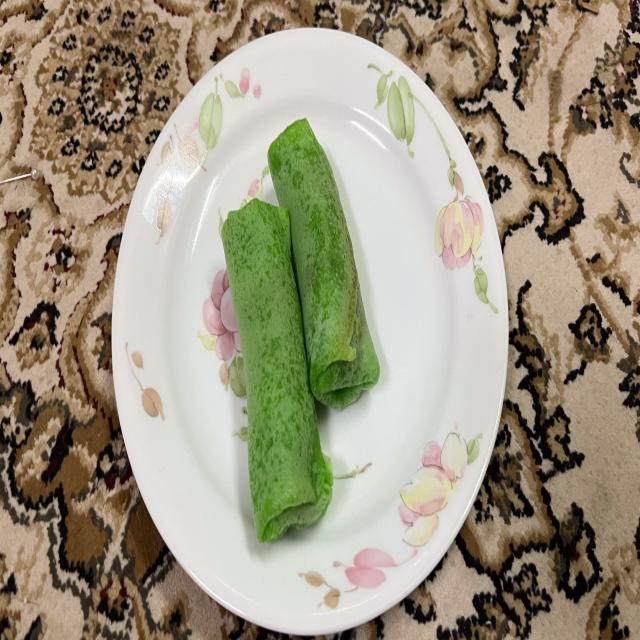Kuih-Ketayap: (221, 198, 332, 542), (268, 120, 380, 409)
